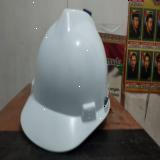Helmet: (20, 9, 110, 152)
